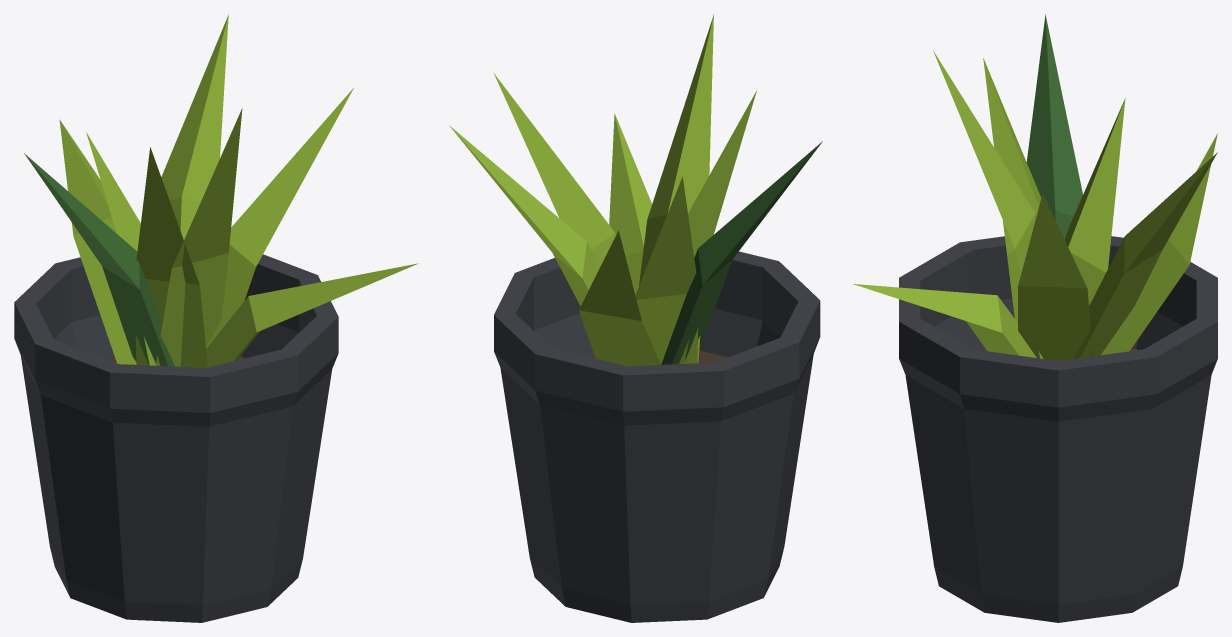
The model's file is SM_Street_Pot_RoundBlack_No3_Spiky_01.gltf.
The picture shows the model from 3 angles, left to right: view 1: azimuth 30°, elevation 25°; view 2: azimuth 150°, elevation 25°; view 3: azimuth 270°, elevation 25°; orthographic projection. The views are drawn at different scales.
Parts seen in each view (by area): view 1: SM_Street_Pot_RoundBlack_No3_Spiky_01; view 2: SM_Street_Pot_RoundBlack_No3_Spiky_01; view 3: SM_Street_Pot_RoundBlack_No3_Spiky_01.
Part boxes in pixels (x1,y1,x2,y2): SM_Street_Pot_RoundBlack_No3_Spiky_01: [14, 15, 418, 622]; SM_Street_Pot_RoundBlack_No3_Spiky_01: [449, 14, 822, 622]; SM_Street_Pot_RoundBlack_No3_Spiky_01: [853, 14, 1217, 622].
Bounding box in the file's own units: 0.105 × 0.1548 × 0.0982.
Materials: 1 (1 with a texture image).
